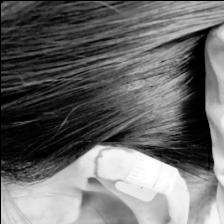Potentially Malignant Skin Tumors: (102, 153, 132, 172)
